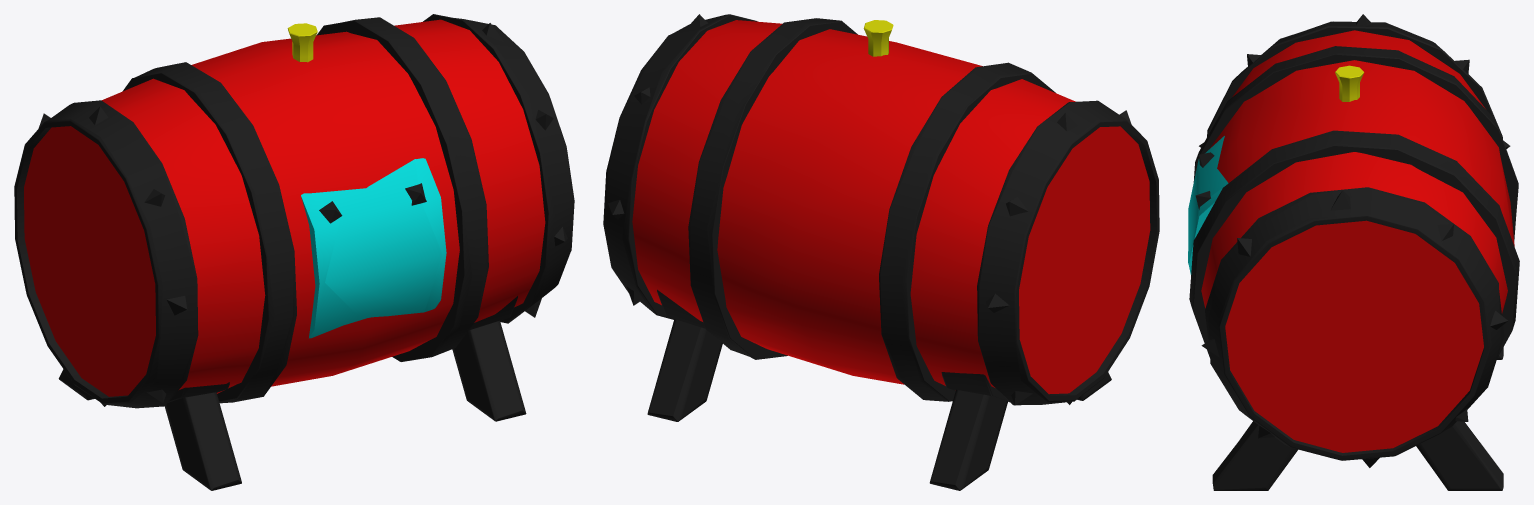
The model's file is Env_Explosive_Barrel.fbx.
3 renders of one model, left to right at view 1: azimuth 30°, elevation 25°; view 2: azimuth 150°, elevation 25°; view 3: azimuth 270°, elevation 25°, orthographic. The views are drawn at different scales.
Visible parts, largest first — view 1: Env_ExplosiveBarrel; view 2: Env_ExplosiveBarrel; view 3: Env_ExplosiveBarrel.
Part boxes in pixels (x1,y1,x2,y2): Env_ExplosiveBarrel: (14,14,574,490); Env_ExplosiveBarrel: (603,14,1159,490); Env_ExplosiveBarrel: (1188,14,1519,490).
Bounding box in the file's own units: 1.91 × 1.62 × 1.39.
